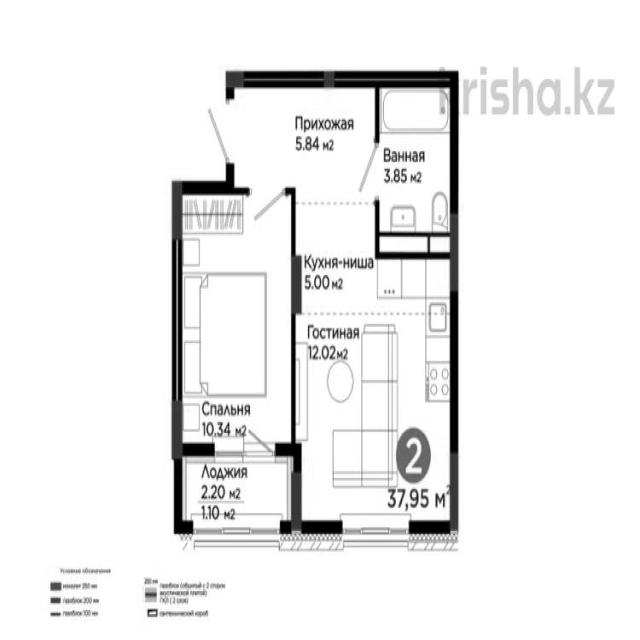balcony: (173, 452, 296, 532)
bathroom: (378, 77, 453, 256)
hallway: (230, 78, 376, 186)
living_room: (176, 184, 293, 451)
studio: (292, 231, 455, 535)
